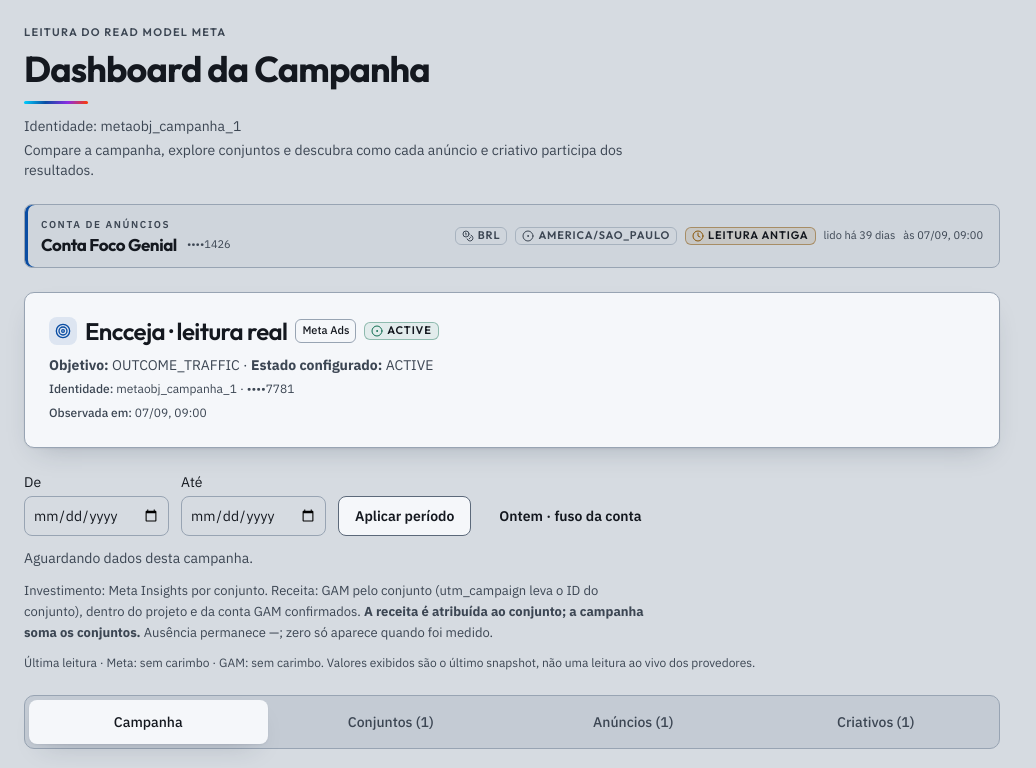
Test: MetaCampaignReadView — a hierarquia real › mostra moeda, fuso e frescor da resposta — e o estado da Meta como palavra
The width and height of the screenshot is (1036, 768).
Expected: the text "Encceja · leitura real" is shown, [85, 319, 287, 343]
Expected: the text "BRL" is shown, [478, 230, 500, 241]
Press the mouse on the tab "Conjuntos (1)" at x=391, y=722, box [272, 700, 510, 744]
(page scrolled)
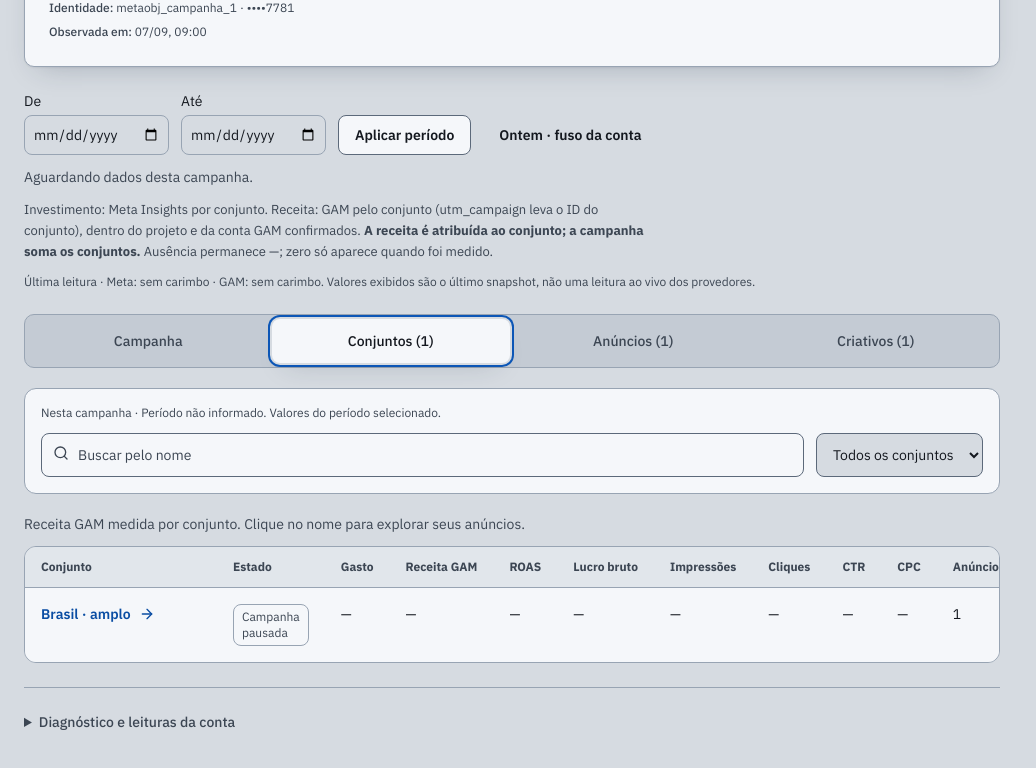
Result: the text "Campanha pausada" is shown at [233, 604, 309, 646]
